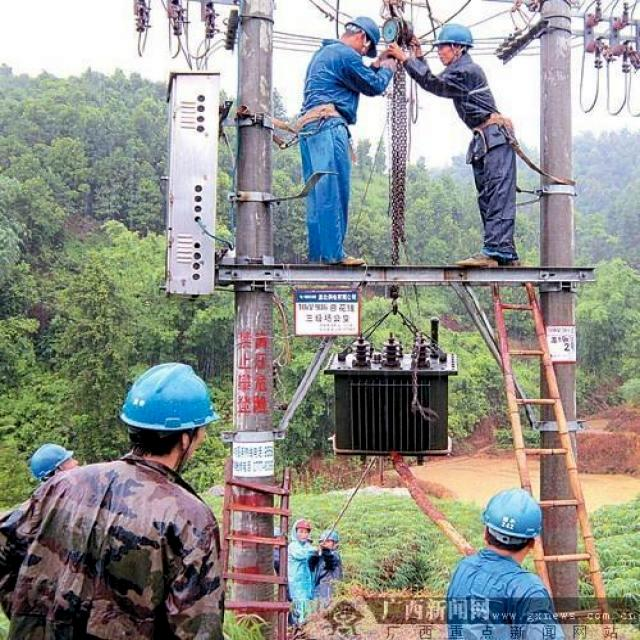hard_hat: (134, 363, 218, 467), (484, 488, 541, 557), (33, 444, 78, 481), (346, 16, 379, 56), (434, 23, 472, 52), (292, 518, 308, 541), (323, 530, 338, 550)
person: (0, 364, 224, 639), (413, 24, 517, 264), (303, 17, 390, 262), (431, 489, 563, 639), (288, 520, 315, 625), (28, 443, 78, 499), (317, 530, 344, 597)
